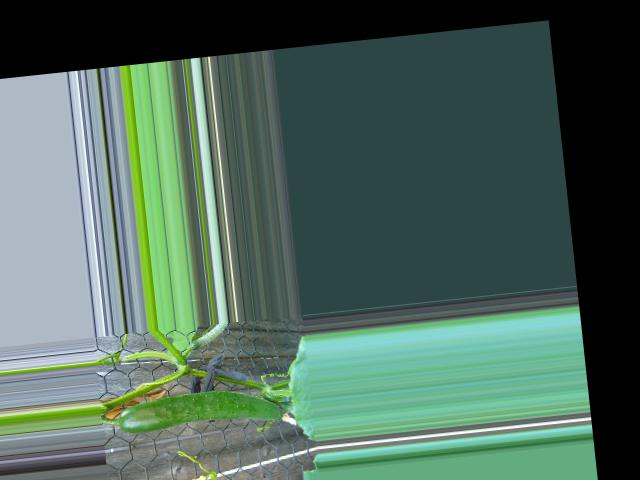cucumber: (116, 383, 282, 436)
